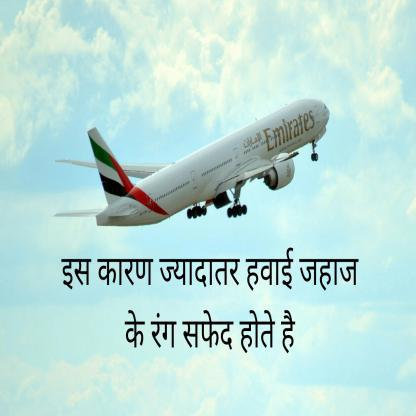CIV_Plane: (46, 96, 331, 234)
